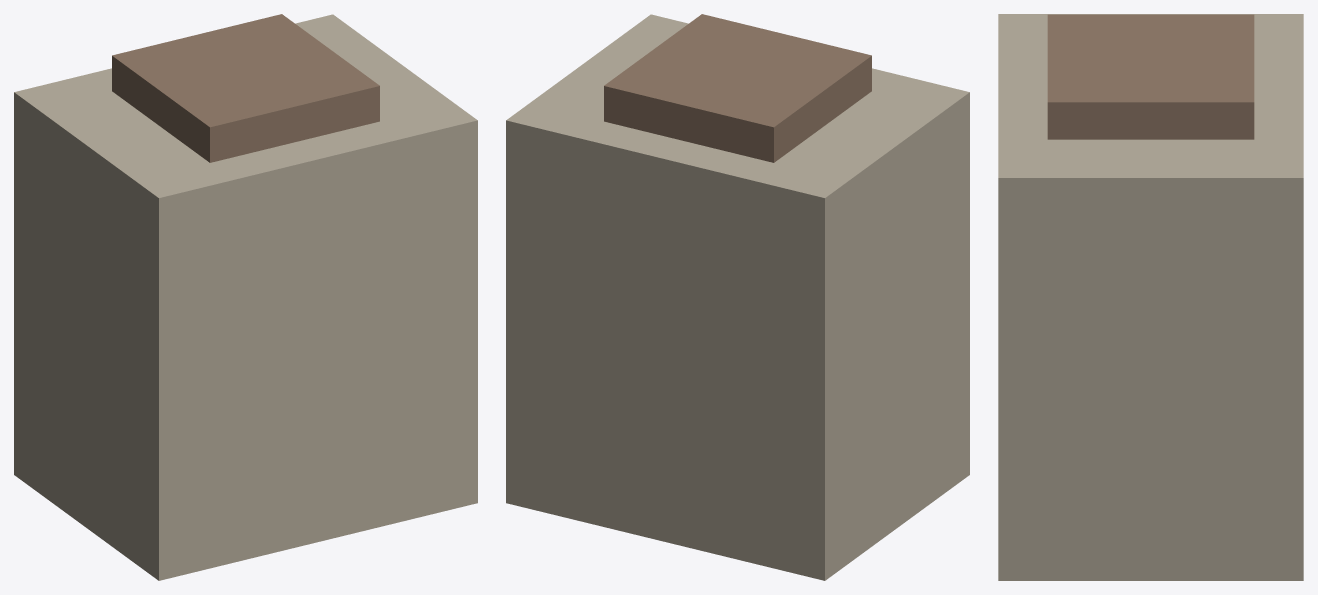
Rendered from saco_mercadorias.glb.
The picture shows the model from 3 angles, left to right: view 1: azimuth 30°, elevation 25°; view 2: azimuth 150°, elevation 25°; view 3: azimuth 270°, elevation 25°; orthographic projection. The views are drawn at different scales.
Visible parts, largest first — view 1: part_000, part_001; view 2: part_000, part_001; view 3: part_000, part_001.
Boxes of the visible parts, x1,y1,x2,y2 form: part_000: (14, 14, 477, 580); part_001: (112, 14, 379, 162); part_000: (506, 14, 969, 580); part_001: (604, 14, 871, 162); part_000: (998, 14, 1303, 580); part_001: (1047, 14, 1254, 139).
Bounding box in the file's own units: 0.75 × 0.94 × 0.59.
